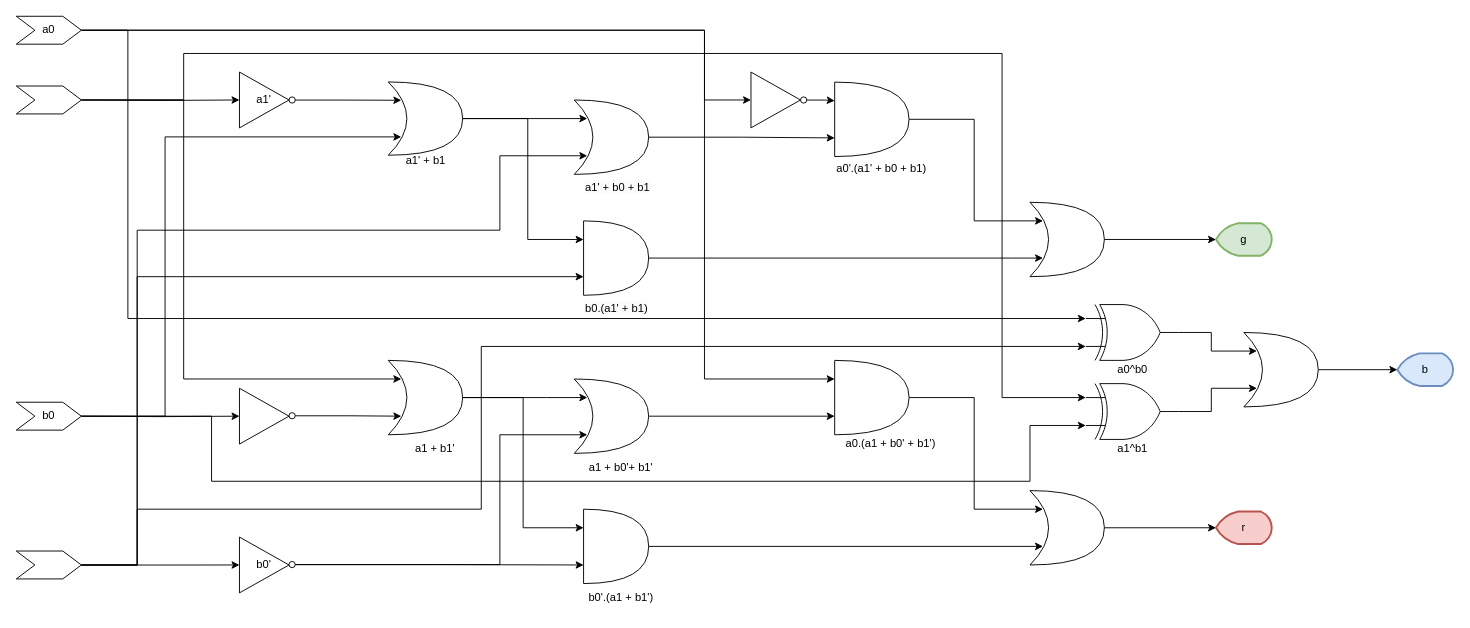
Some shapes in this 1470 by 628 pixel diagram are drawn without their labels. Each missing label, with the centre of its shape:
"a0'" goes at pixel 775 99.
"a1" goes at pixel 48 99.
"b1" goes at pixel 48 564.
"b1'" goes at pixel 264 415.
